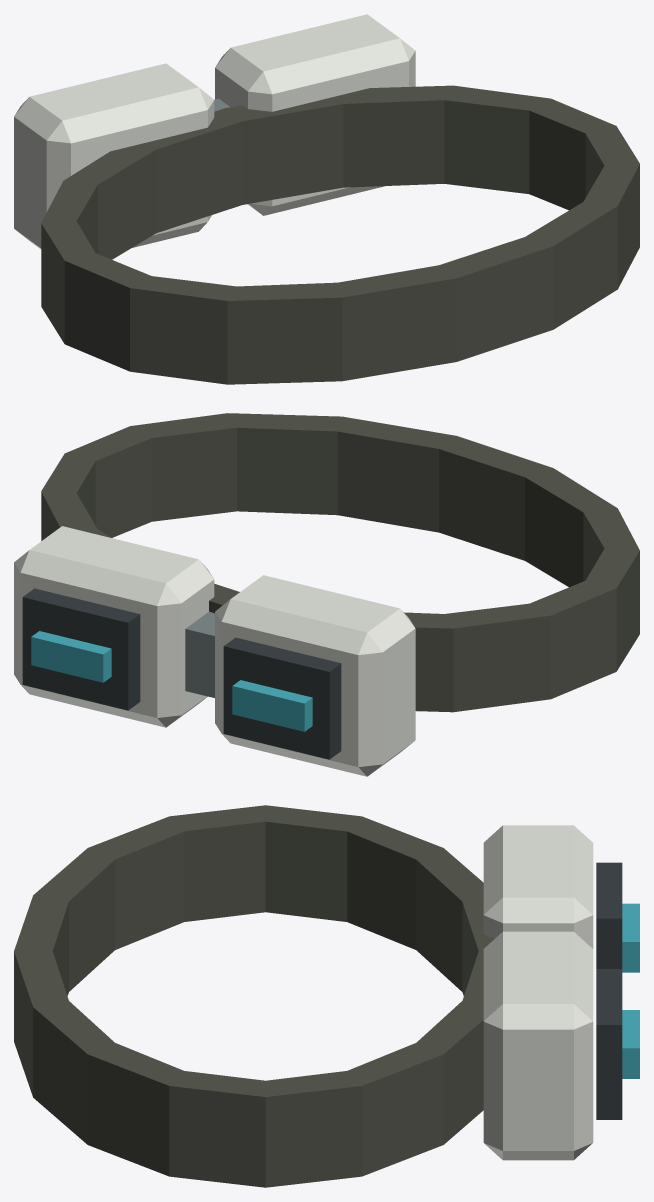
Rendered from person_belt_shield.obj.
3 views of the same model, one above another, from view 1: azimuth 30°, elevation 25°; view 2: azimuth 150°, elevation 25°; view 3: azimuth 270°, elevation 25° (orthographic). The views are drawn at different scales.
Parts seen in each view (by area): view 1: person_belt_shield; view 2: person_belt_shield; view 3: person_belt_shield.
Boxes of the visible parts, bbox=[...] form: person_belt_shield: bbox=[14, 14, 639, 384]; person_belt_shield: bbox=[14, 413, 639, 776]; person_belt_shield: bbox=[14, 805, 639, 1187].
Bounding box in the file's own units: 0.428 × 0.107 × 0.388.
